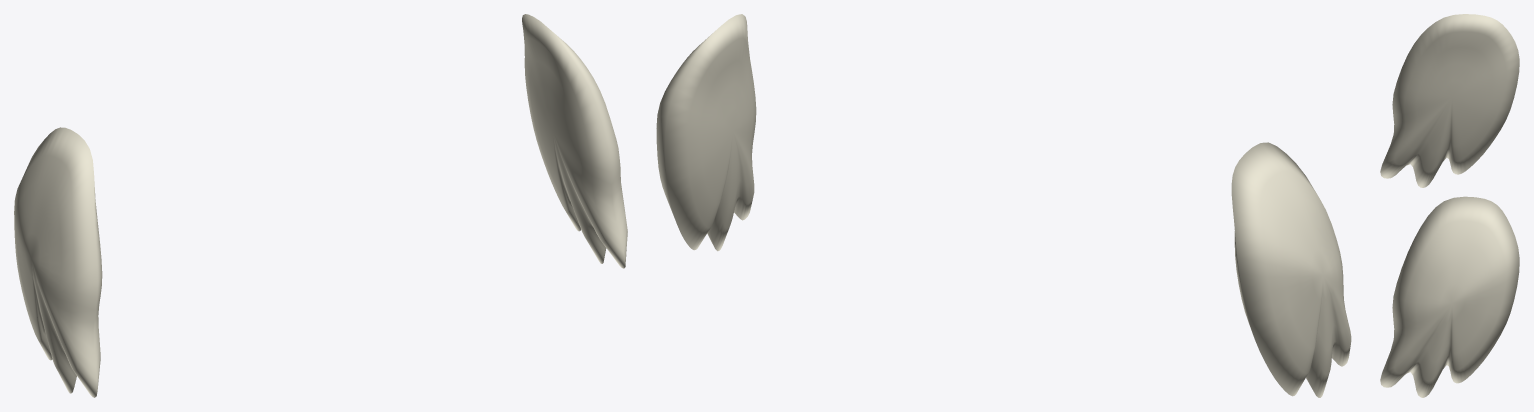
File: goose-wing-only.glb
3 views of the same model, side by side, from view 1: azimuth 30°, elevation 25°; view 2: azimuth 150°, elevation 25°; view 3: azimuth 270°, elevation 25° (orthographic). The views are drawn at different scales.
Parts seen in each view (by area): view 1: goose_leftArm_mesh, goose_rightArm_mesh; view 2: goose_leftArm_mesh, goose_rightArm_mesh; view 3: goose_rightArm_mesh, goose_leftArm_mesh.
Boxes of the visible parts, bbox=[...] form: goose_leftArm_mesh: bbox=[14, 127, 102, 397]; goose_rightArm_mesh: bbox=[522, 14, 627, 268]; goose_leftArm_mesh: bbox=[1231, 142, 1351, 397]; goose_rightArm_mesh: bbox=[656, 14, 756, 251]; goose_rightArm_mesh: bbox=[1380, 196, 1519, 397]; goose_leftArm_mesh: bbox=[1380, 14, 1519, 187].
Bounding box in the file's own units: 1.06 × 0.4089 × 0.2755.
